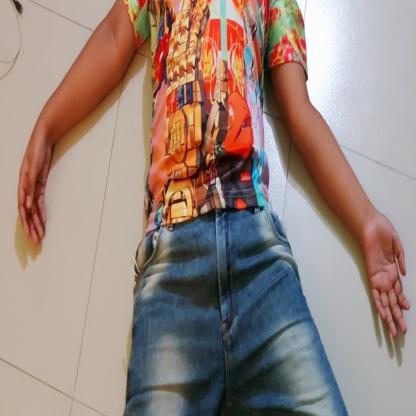hand: (11, 80, 63, 268), (356, 207, 414, 343)
